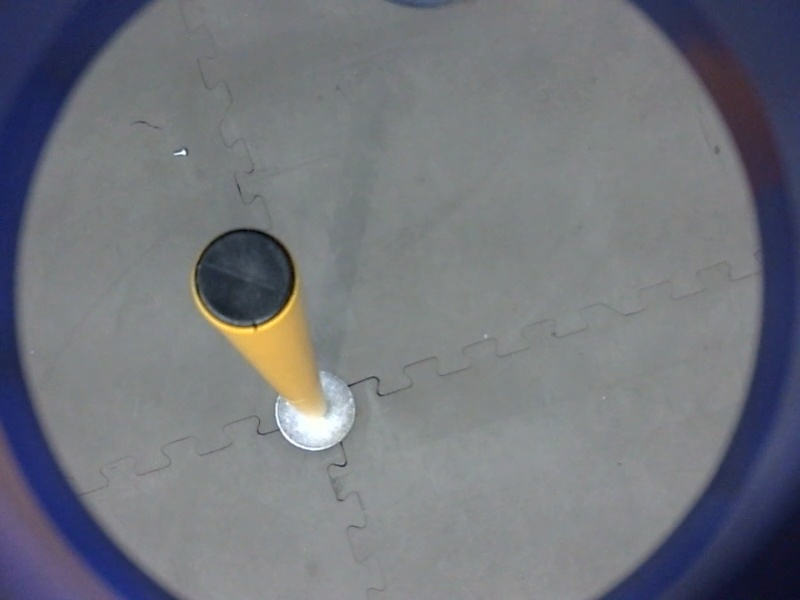tip: (186, 224, 304, 336)
